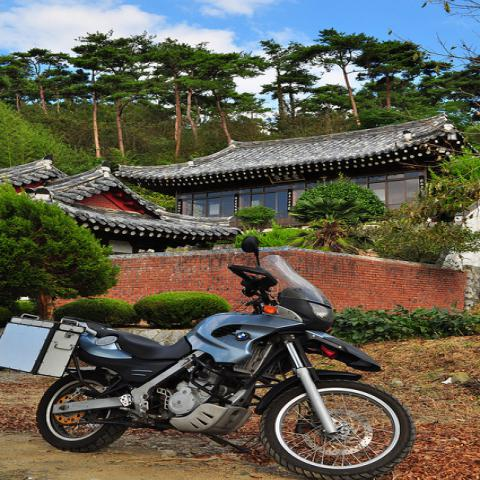motorcycle: (0, 236, 419, 478)
